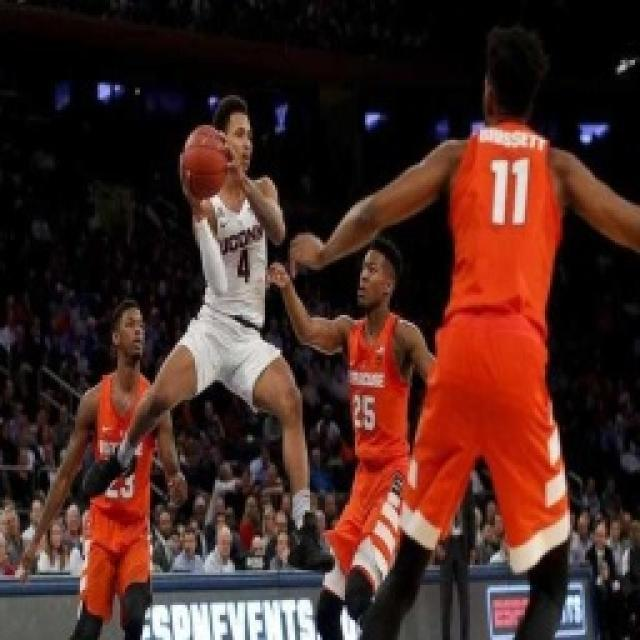rim: (177, 121, 230, 203)
